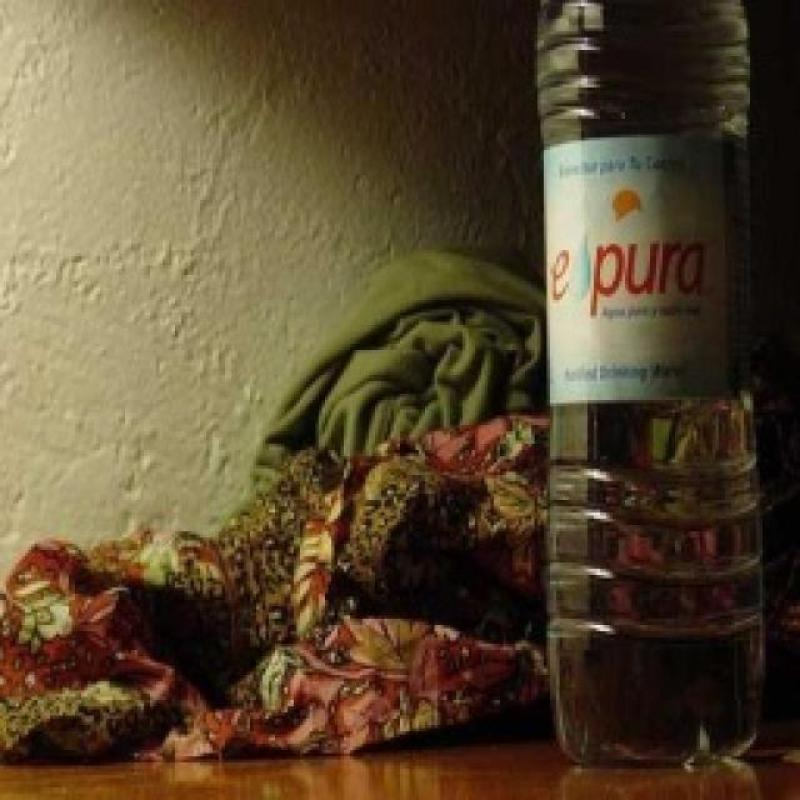botella: (534, 0, 758, 765)
